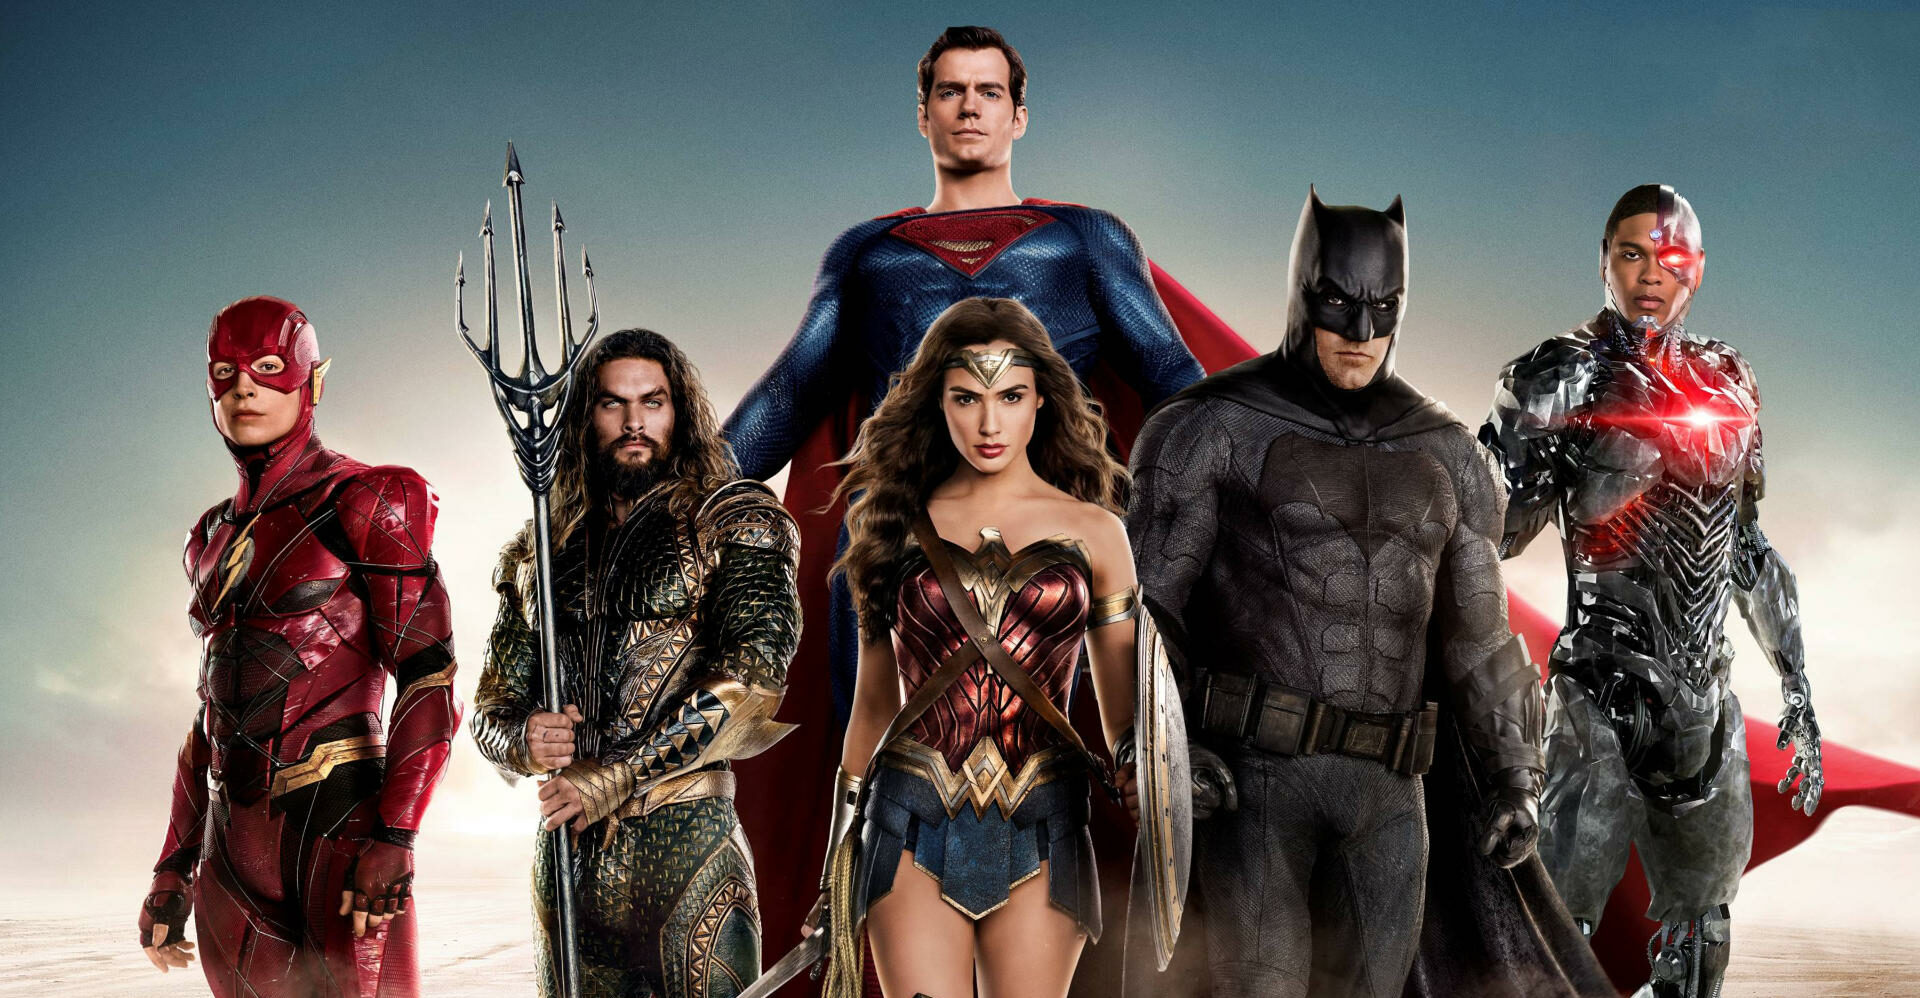Person: (1204, 136, 1513, 939), (1541, 156, 1816, 983), (173, 256, 467, 998), (848, 300, 1154, 989), (484, 292, 776, 995), (834, 33, 1141, 283)
